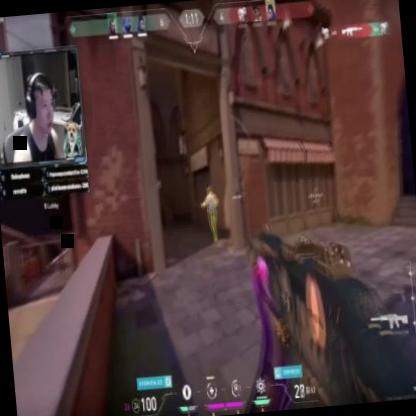enemy: (199, 185, 223, 244)
enemy_head: (207, 187, 212, 196)
